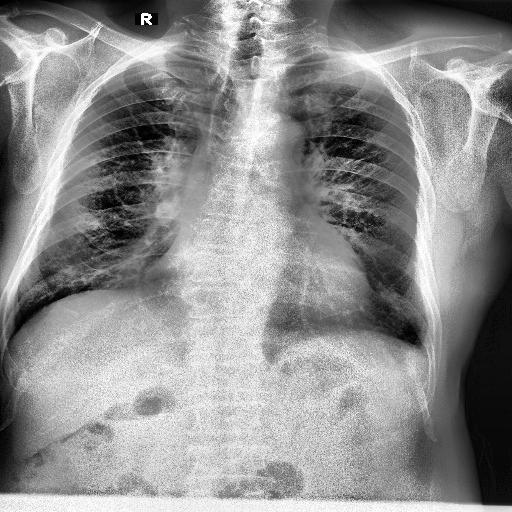0- Aortic enlargement: (230, 113, 306, 167), (244, 110, 304, 166)
10- Pleural effusion: (412, 342, 438, 370), (413, 334, 431, 358)
11- Pleural thickening: (412, 342, 438, 370), (413, 334, 431, 358)
3- Cardiomegaly: (136, 244, 370, 334), (140, 236, 366, 326), (139, 246, 372, 330)
6- Infiltration: (377, 276, 423, 332), (50, 260, 90, 286)
